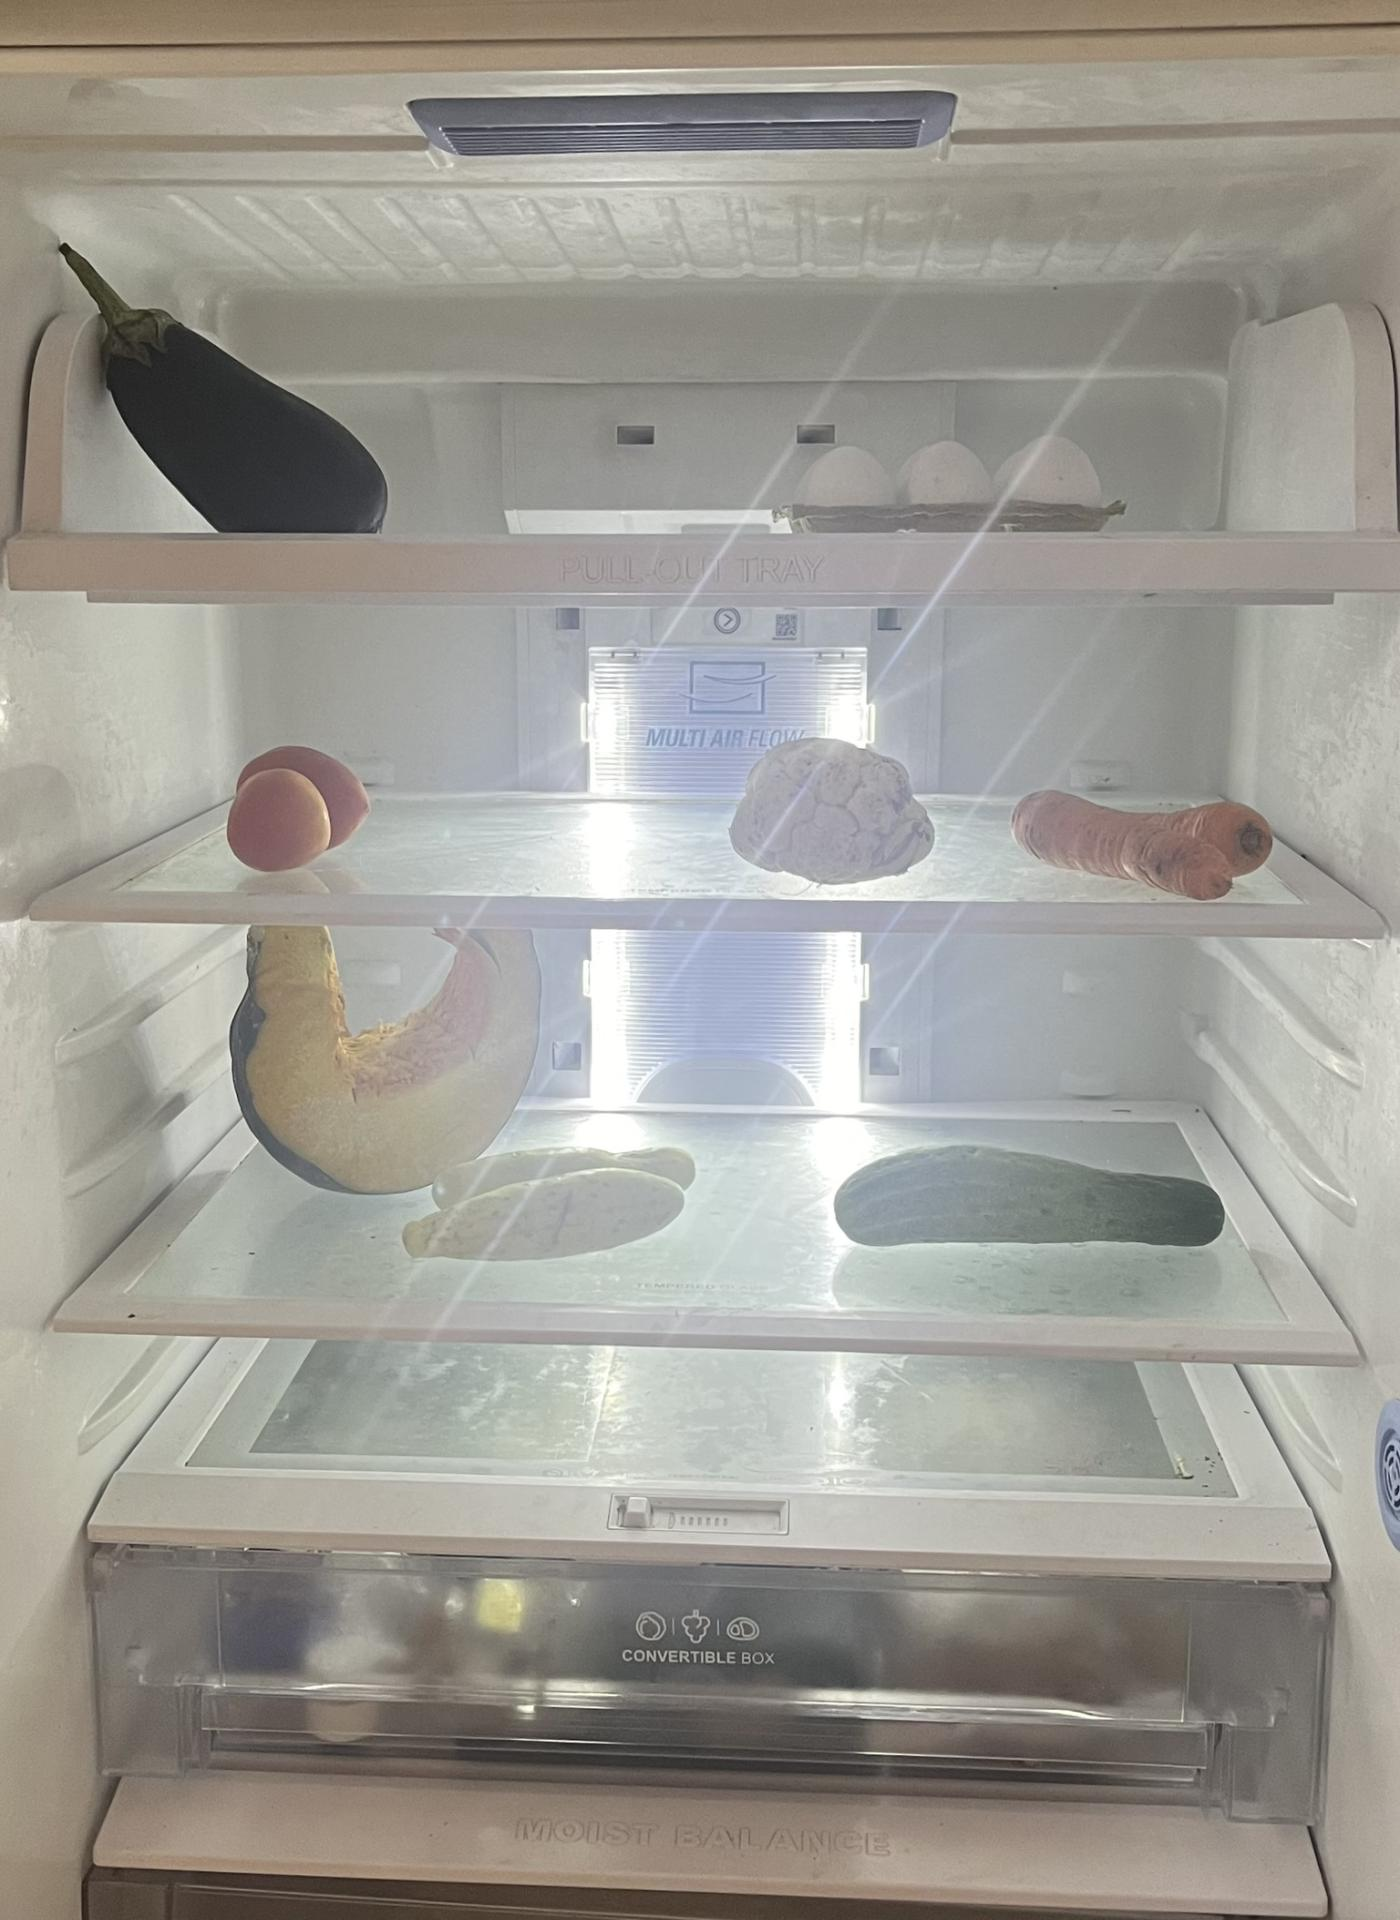brinjal: (55, 227, 400, 537)
carrots: (1017, 789, 1284, 897)
cauliflower: (735, 738, 930, 881)
cucumber: (833, 1130, 1237, 1243), (403, 1133, 702, 1258)
egg: (799, 441, 1109, 510)
pumpkin: (230, 932, 543, 1197)
tomato: (224, 742, 379, 874)
